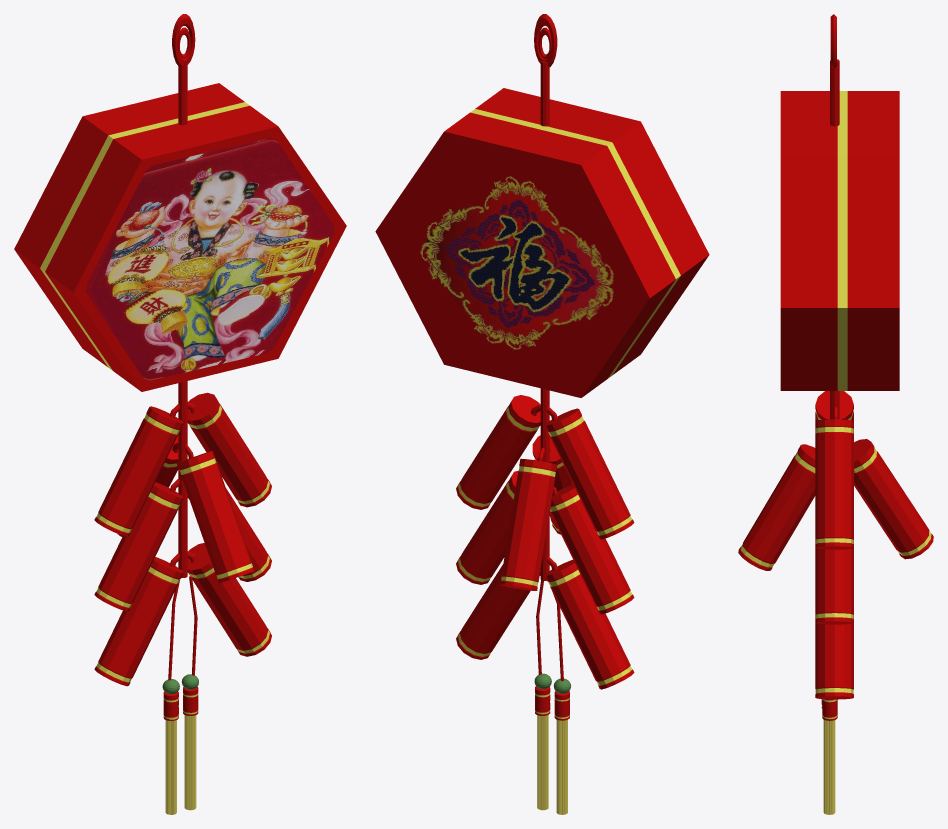
Rendered from duanbianpao.fbx.
3 views of the same model, side by side, from view 1: azimuth 30°, elevation 25°; view 2: azimuth 150°, elevation 25°; view 3: azimuth 270°, elevation 25° (orthographic).
Parts seen in each view (by area): view 1: polySurface93; view 2: polySurface93; view 3: polySurface93.
Part boxes in pixels (left/top/right/bottom): polySurface93: left=14, top=14, right=346, bottom=814; polySurface93: left=375, top=14, right=709, bottom=814; polySurface93: left=738, top=14, right=933, bottom=814.
Bounding box in the file's own units: 148 × 410 × 91.2.
Materials: 6 (2 with a texture image).
